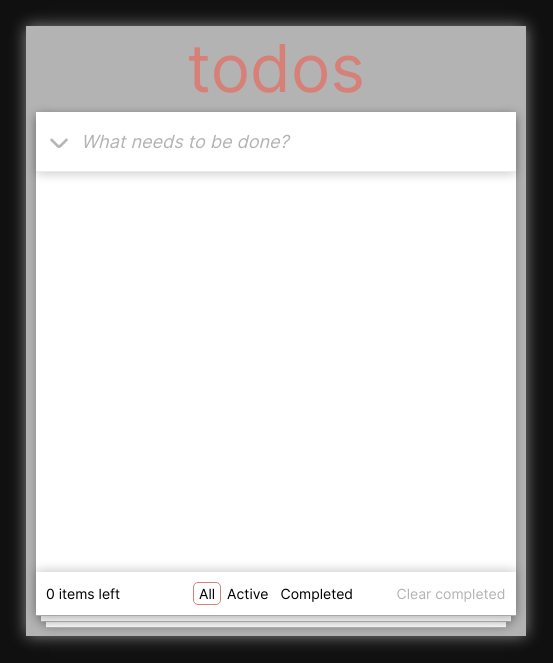
Test: TodoList › переключение статуса задач и удаление завершенных при нажатии на кнопку "Очистить завершенные"
Type "Задача-1" into the field with test id "todo-form-input". click: [298, 142]
box: [81,112,516,171]
Click the button with test id "todo-submit-btn". click: [58, 142]
box: [36,112,81,171]
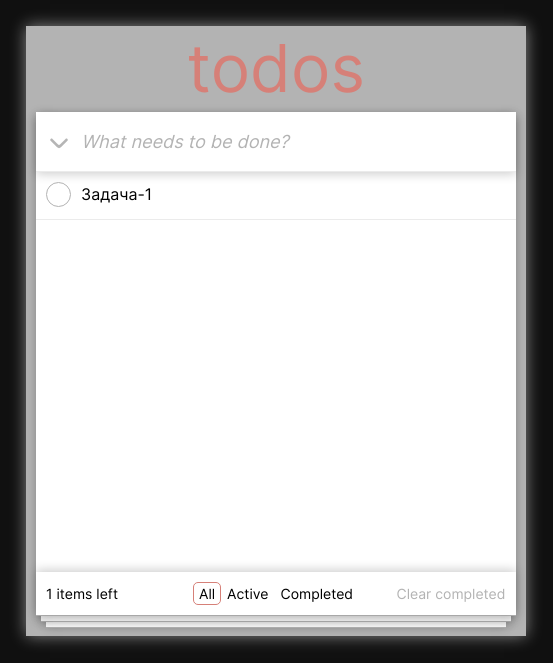
Type "Задача-2" into the field with test id "todo-form-input". click: [298, 142]
box: [81,112,516,171]
Click the button with test id "todo-submit-btn". click: [58, 142]
box: [36,112,81,171]
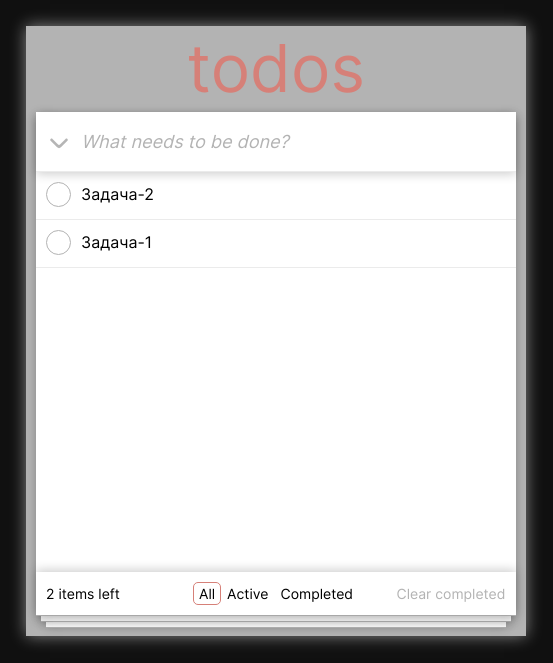
Click the icon with test id "Задача-1". click: [58, 243]
box: [46,230,71,255]
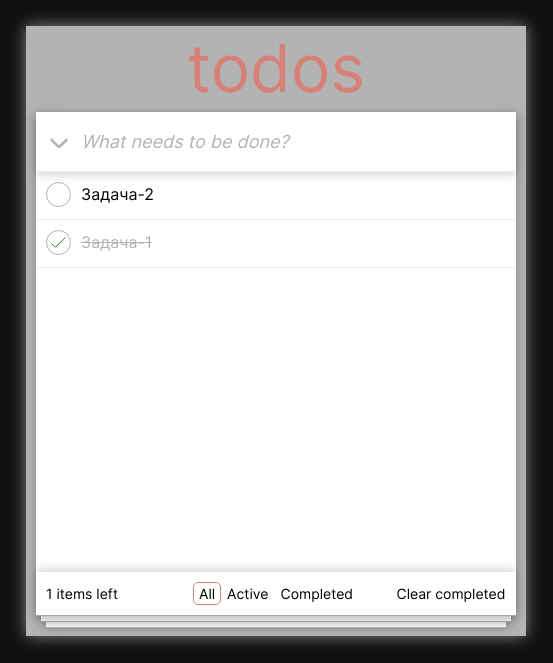
Click the icon with test id "Задача-2". click: [58, 195]
box: [46,182,71,207]
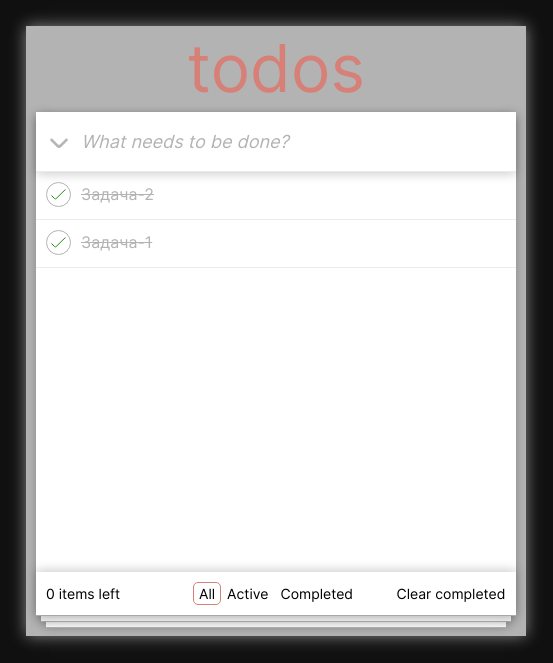
Click the icon with test id "Задача-2". click: [58, 195]
box: [46,182,71,207]
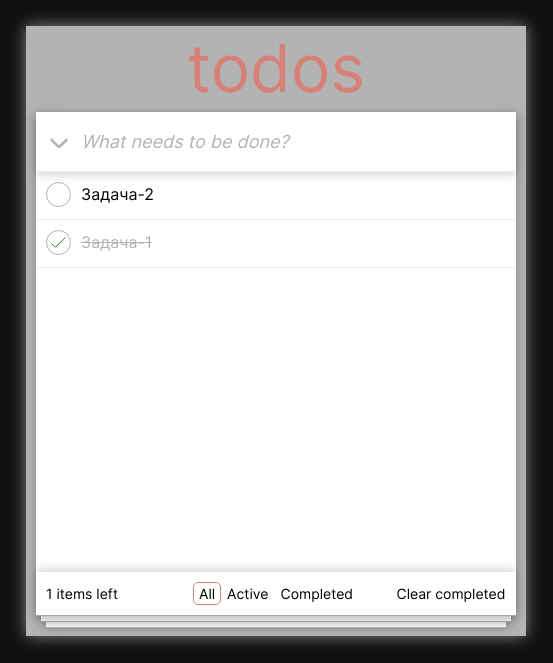
Click the button with test id "todo-clear-btn". click: [451, 593]
box: [396,583,506,604]
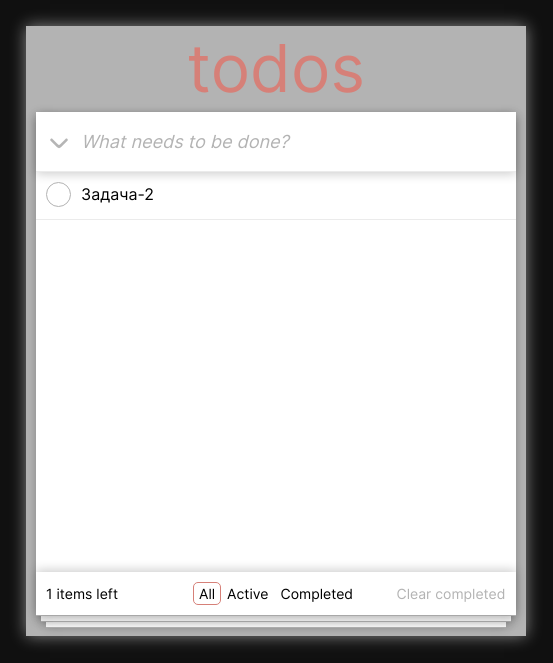
Expected: the icon with test id "Задача-2" is shown, [46,182,71,207]
Expected: the icon with test id "Задача-1" is gone
